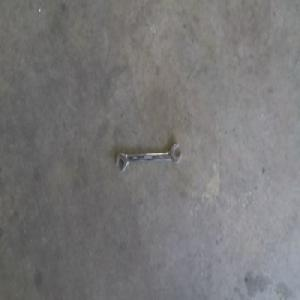Wrench: (116, 136, 182, 164)
